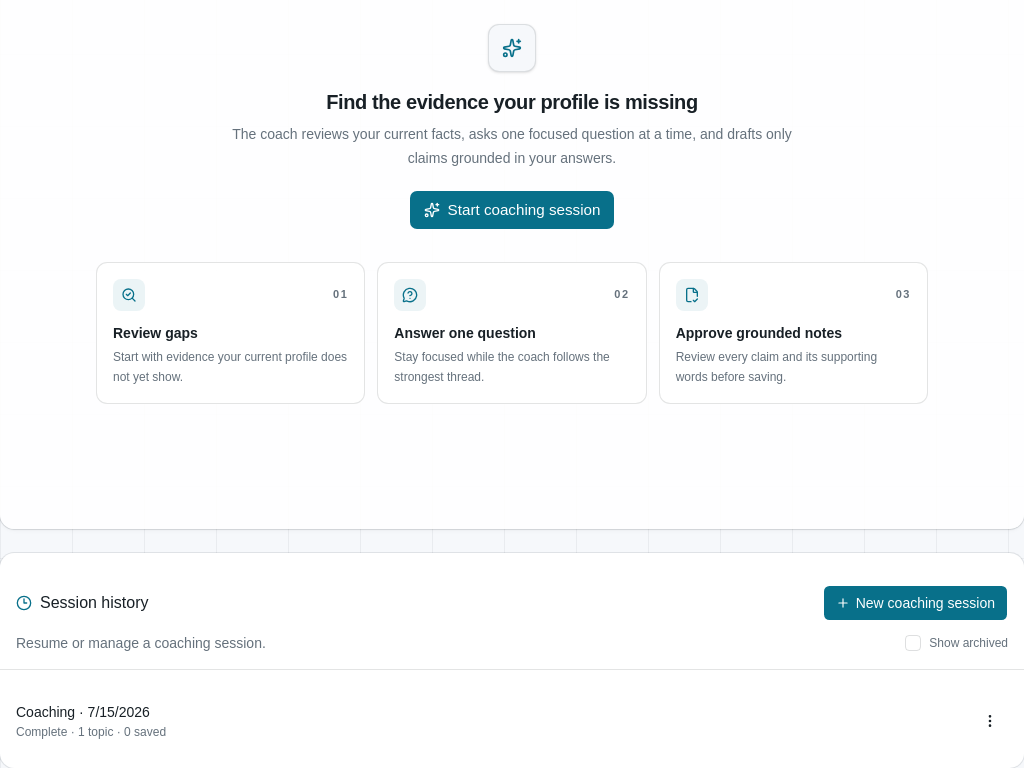
Test: CoachPage › renders a completed session read-only after it is selected from history
(page scrolled)
Click the button "Coaching · 7/15/2026 Complete · 1 topic · 0 saved".
click(83, 712)  # box left=16, top=702, right=960, bottom=740
(page scrolled)
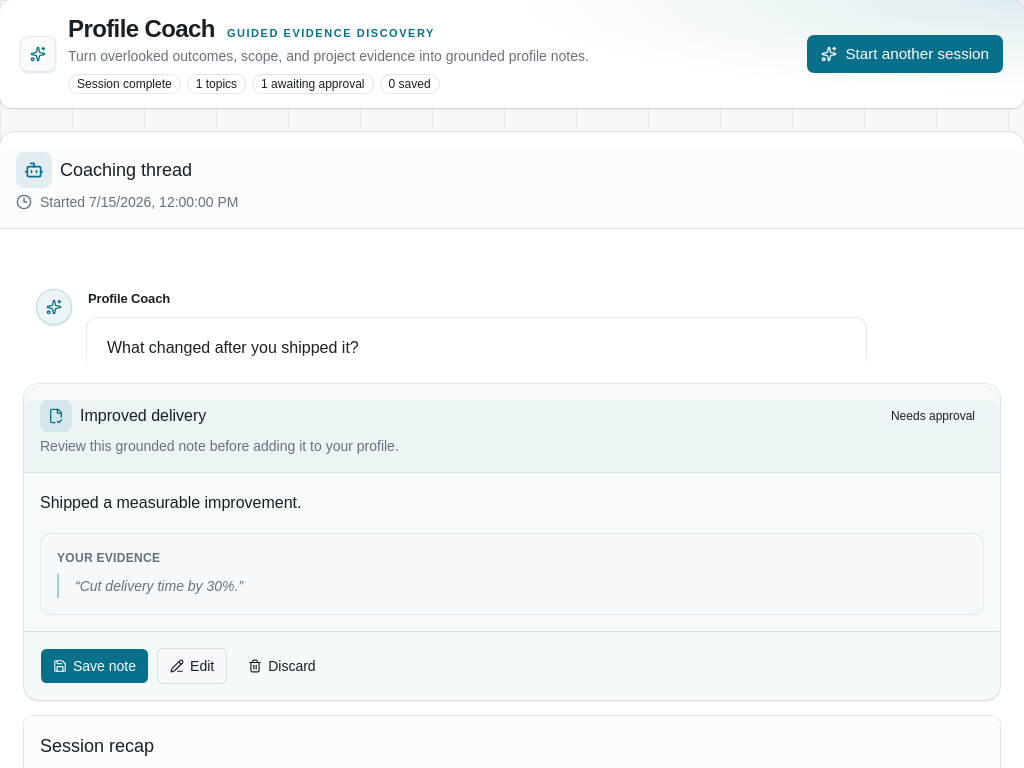
Check: the button "Start another session" is shown, box left=806, top=34, right=1004, bottom=74
